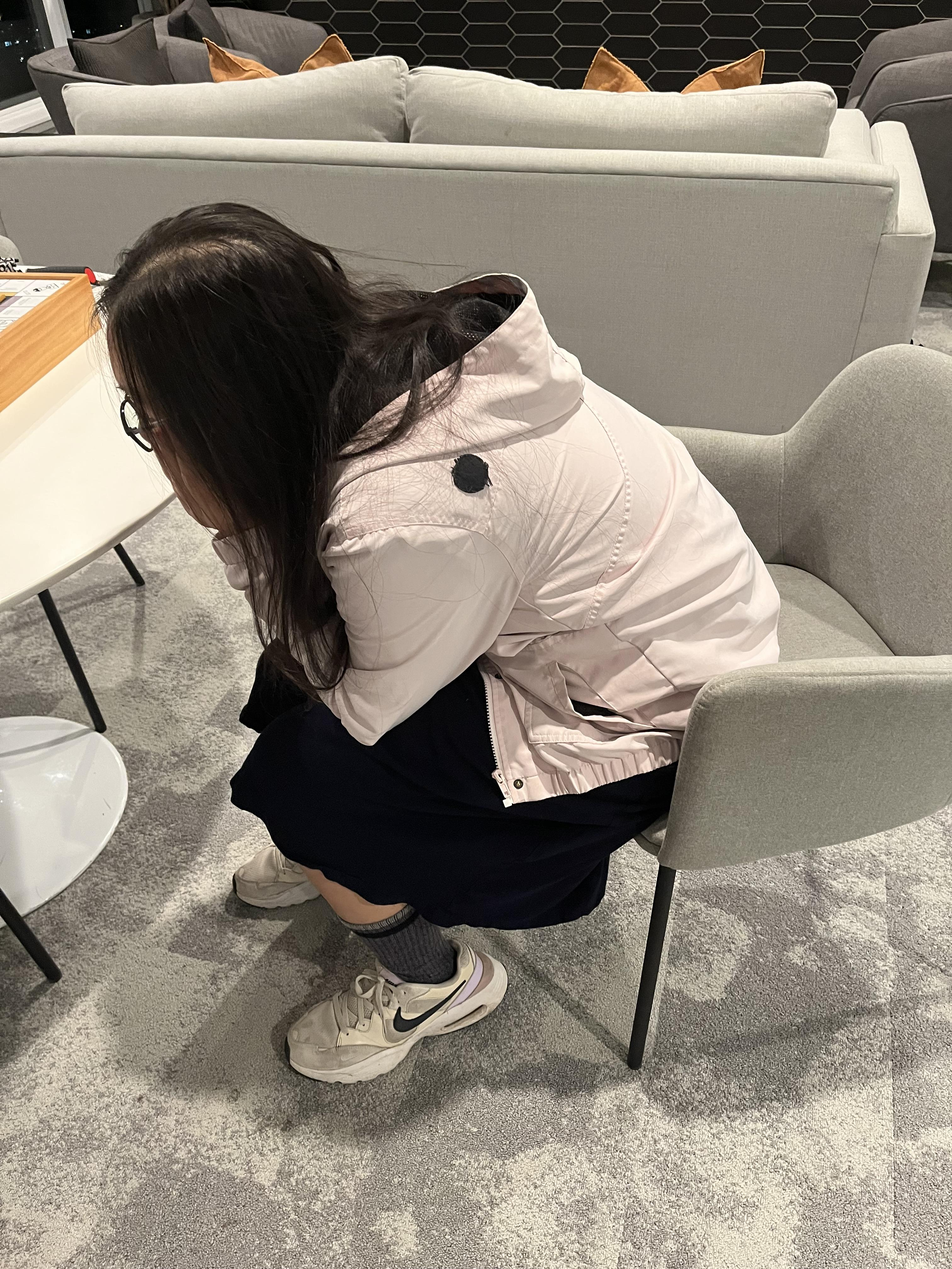BadPosture: (93, 201, 783, 1088)
